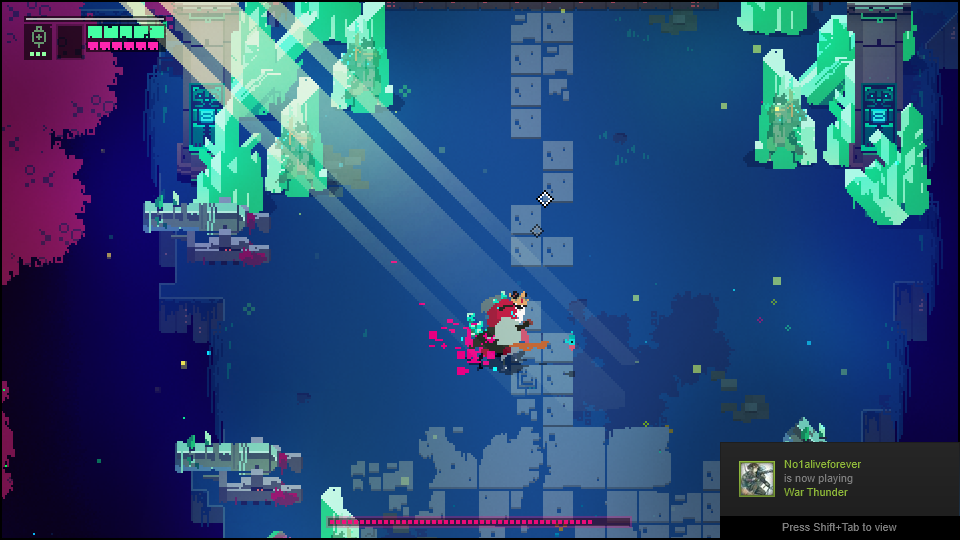hanged_man: (461, 283, 556, 363)
